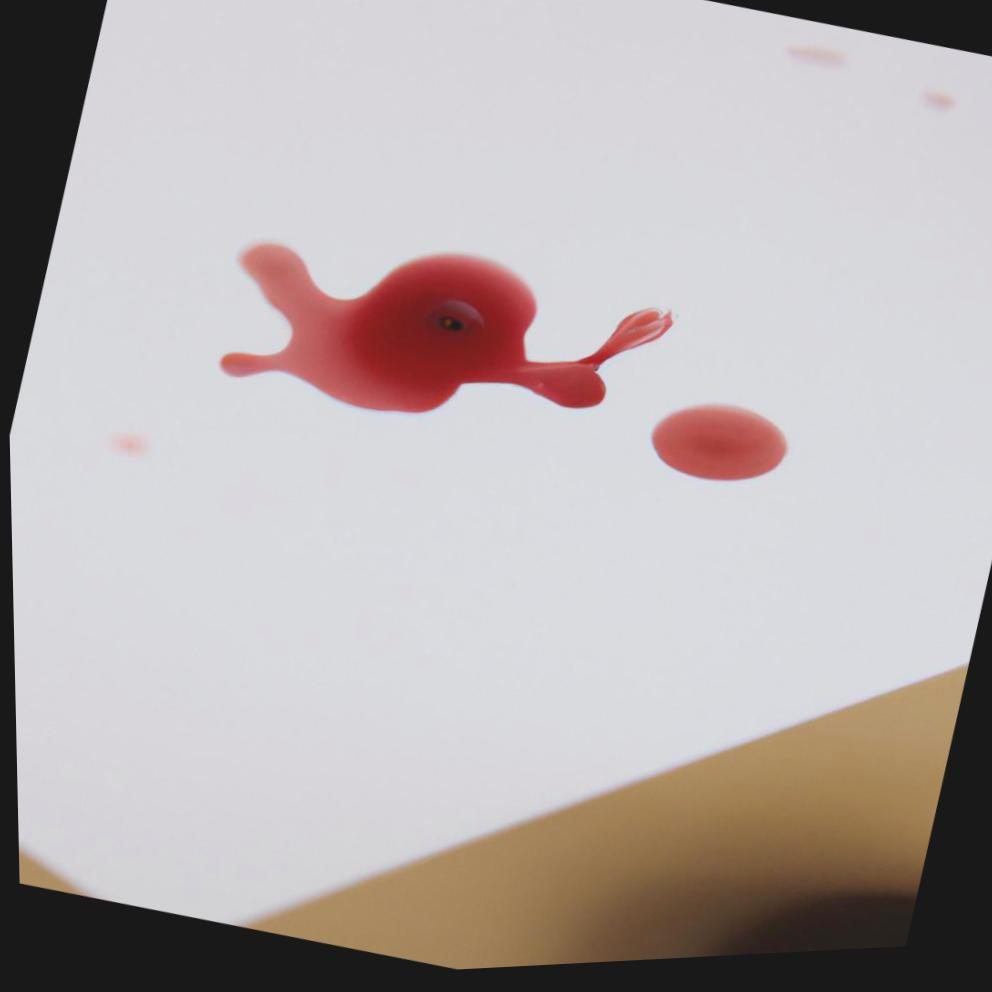Fire: (217, 246, 671, 418), (648, 413, 786, 489)
